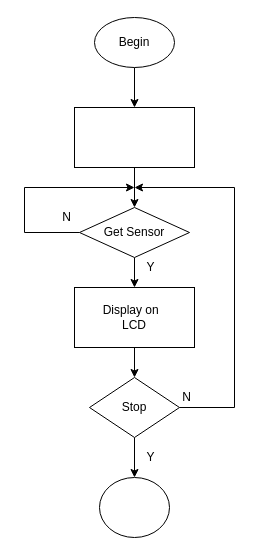
Image size: 260x555. Some labels were removed from this diagram. Each missing label, with the box of its shape:
End: (98, 476, 170, 538)
LCD and Sensor Initialization: (74, 106, 194, 168)
